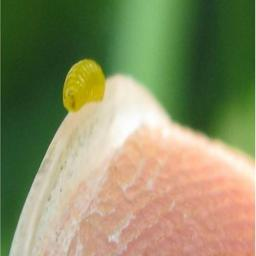liriomyza: (60, 56, 105, 113)
